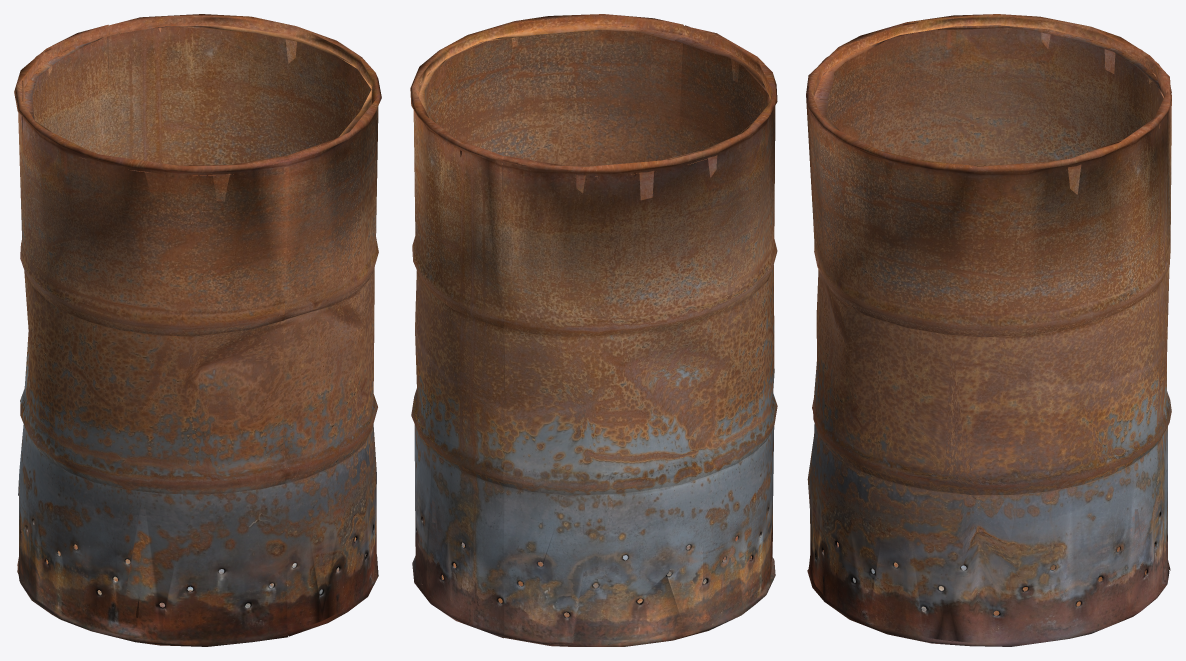
Rendered from barrel_stove.glb.
3 renders of one model, left to right at view 1: azimuth 30°, elevation 25°; view 2: azimuth 150°, elevation 25°; view 3: azimuth 270°, elevation 25°, orthographic.
Parts seen in each view (by area): view 1: barrel_stove; view 2: barrel_stove; view 3: barrel_stove.
Part boxes in pixels (bbox=[...]): barrel_stove: bbox=[14, 14, 381, 646]; barrel_stove: bbox=[410, 14, 777, 646]; barrel_stove: bbox=[806, 14, 1171, 646].
Size of the model in its own units: 0.5931 by 0.8573 by 0.5899.
Materials: 1 (1 with a texture image).
